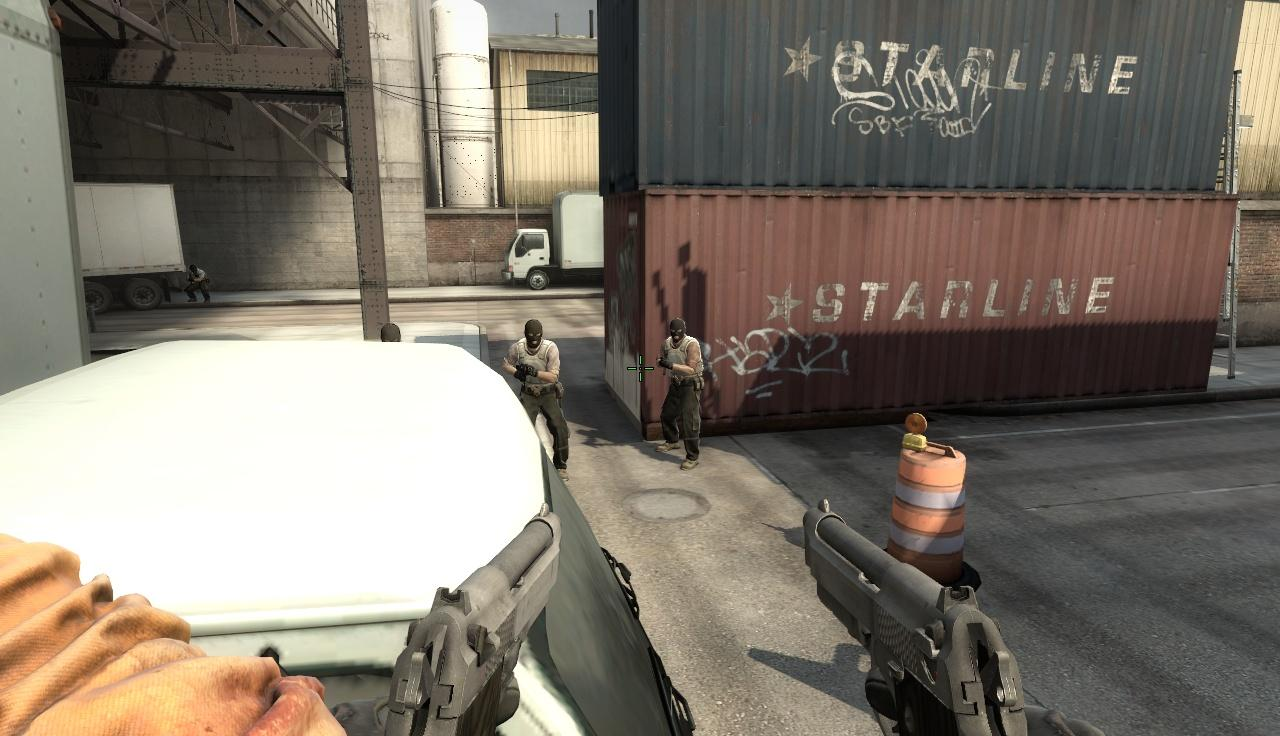pistol: (795, 497, 1114, 736)
tt: (512, 319, 571, 438), (658, 318, 701, 470)
tthead: (524, 319, 543, 348), (670, 318, 685, 342), (381, 324, 401, 342)
